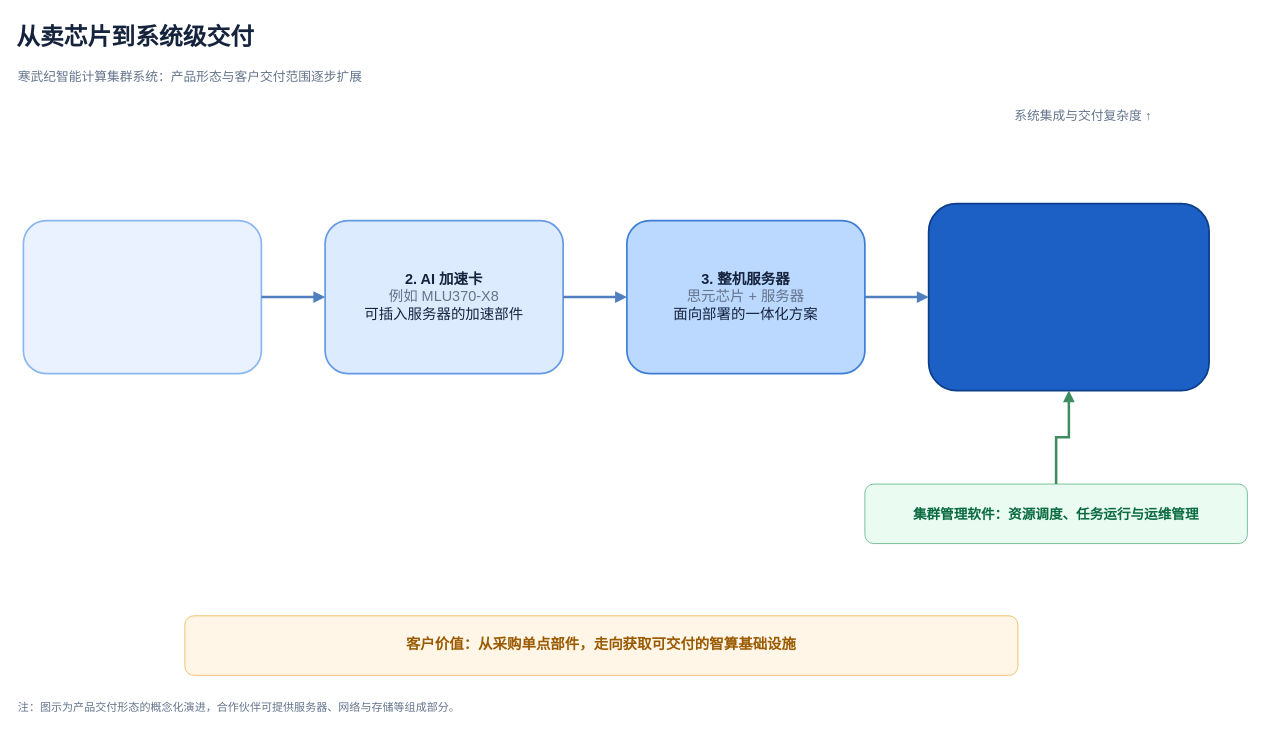
Some shapes in this 1262 by 733 pixel diagram are drawn without their labels. The shapes that lost their labels are listed below. From the top down, each one's centre as x and y in pixels, then its label:
(x=142, y=296): 1. AI 芯片 思元系列 单颗核心计算器件
(x=1068, y=296): 4. 智能计算集群 芯片 + 板卡 + 服务器 + 网络 + 存储 + 管理软件 可部署、可管理、可运行的整体方案
